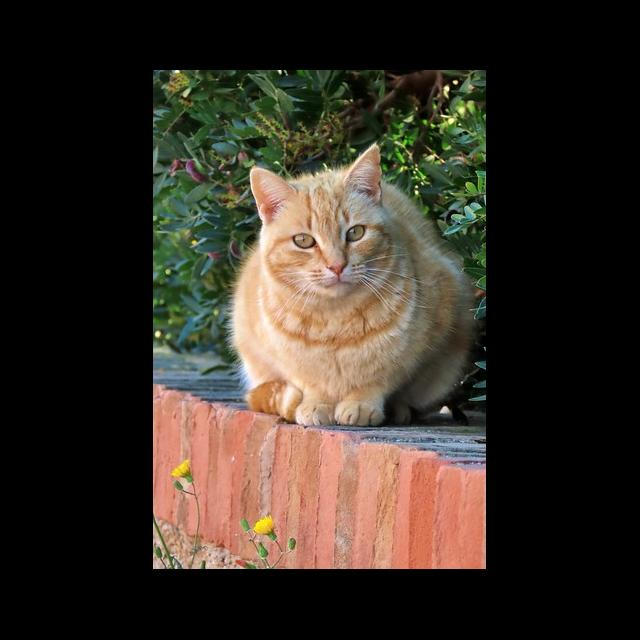animals: (230, 143, 474, 426)
